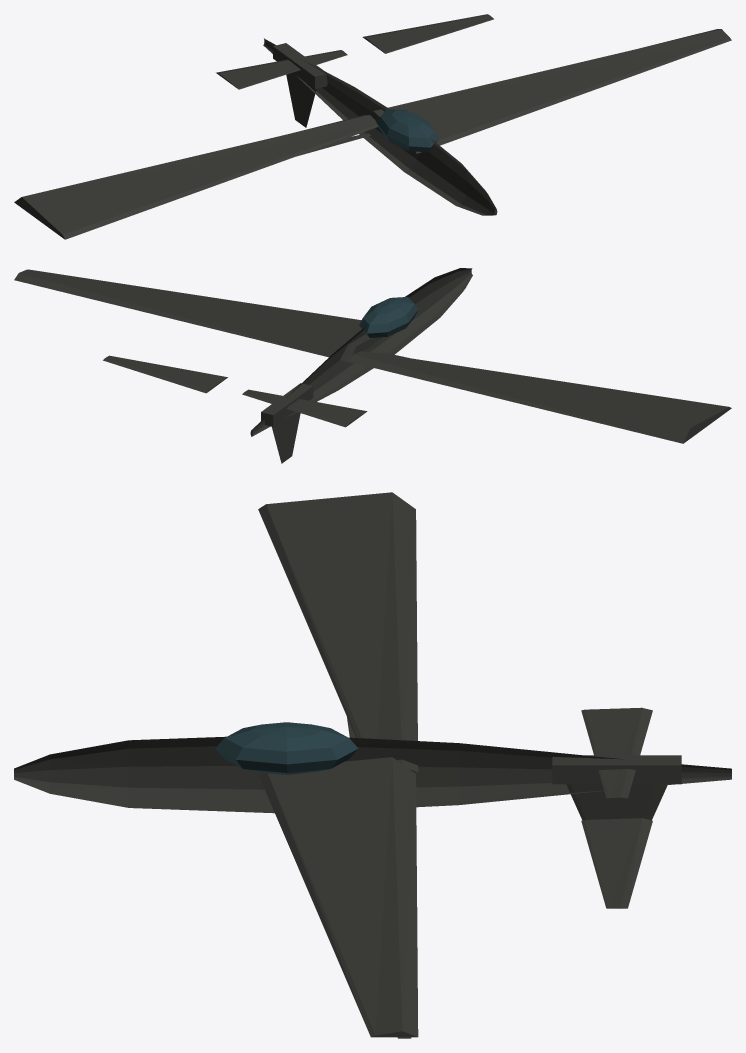
The model's file is mq9_Destroyed.glb.
The picture shows the model from 3 angles, top to bottom: view 1: azimuth 30°, elevation 25°; view 2: azimuth 150°, elevation 25°; view 3: azimuth 270°, elevation 25°; orthographic projection. The views are drawn at different scales.
Parts seen in each view (by area): view 1: Wing_L, Wing_R, Fuselage, Cockpit, Elevator_R, Elevator_L, TailBoom, Rudder; view 2: Wing_L, Wing_R, Fuselage, Cockpit, Elevator_R, Elevator_L, TailBoom, Rudder; view 3: Wing_R, Wing_L, Fuselage, Cockpit, Elevator_R, Elevator_L, TailBoom, Rudder.
Part boxes in pixels (bbox=[...]): Wing_L: bbox=[14, 115, 378, 239]; Wing_R: bbox=[368, 29, 731, 153]; Fuselage: bbox=[263, 38, 497, 215]; Cockpit: bbox=[376, 109, 438, 152]; Elevator_R: bbox=[362, 14, 493, 53]; Elevator_L: bbox=[216, 50, 347, 89]; TailBoom: bbox=[273, 43, 327, 88]; Rudder: bbox=[286, 73, 316, 127]; Wing_L: bbox=[348, 351, 731, 443]; Wing_R: bbox=[14, 269, 382, 362]; Fuselage: bbox=[250, 268, 472, 436]; Cockpit: bbox=[359, 297, 418, 337]; Elevator_R: bbox=[103, 355, 227, 393]; Elevator_L: bbox=[242, 389, 367, 427]; TailBoom: bbox=[261, 383, 313, 426]; Rudder: bbox=[272, 411, 300, 463]; Wing_R: bbox=[258, 757, 418, 1037]; Wing_L: bbox=[258, 492, 418, 772]; Fuselage: bbox=[14, 736, 731, 813]; Cockpit: bbox=[215, 722, 358, 774]; Elevator_R: bbox=[581, 818, 652, 908]; Elevator_L: bbox=[581, 707, 652, 798]; TailBoom: bbox=[552, 755, 681, 784]; Rudder: bbox=[566, 784, 667, 820].
Size of the model in its own units: 19.2 by 2.23 by 11.
